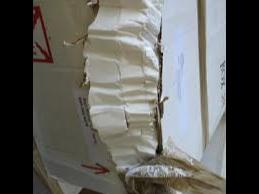damage_box: (35, 0, 226, 194)
